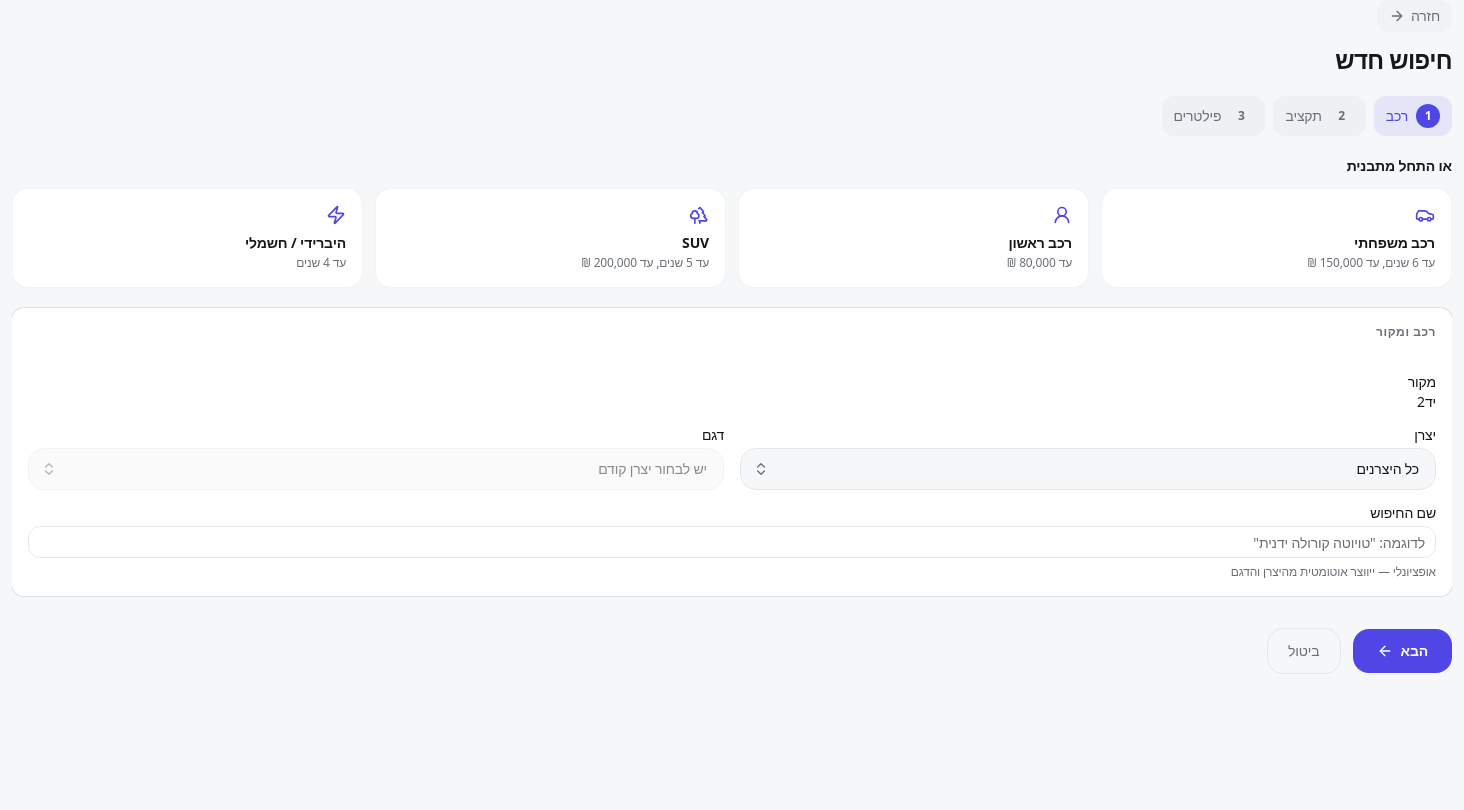
Test: NewSearchPage presets › hides presets after clicking one
Click the button "רכב ראשון עד 80,000 ₪": (1040, 242) [738,188,1089,288]
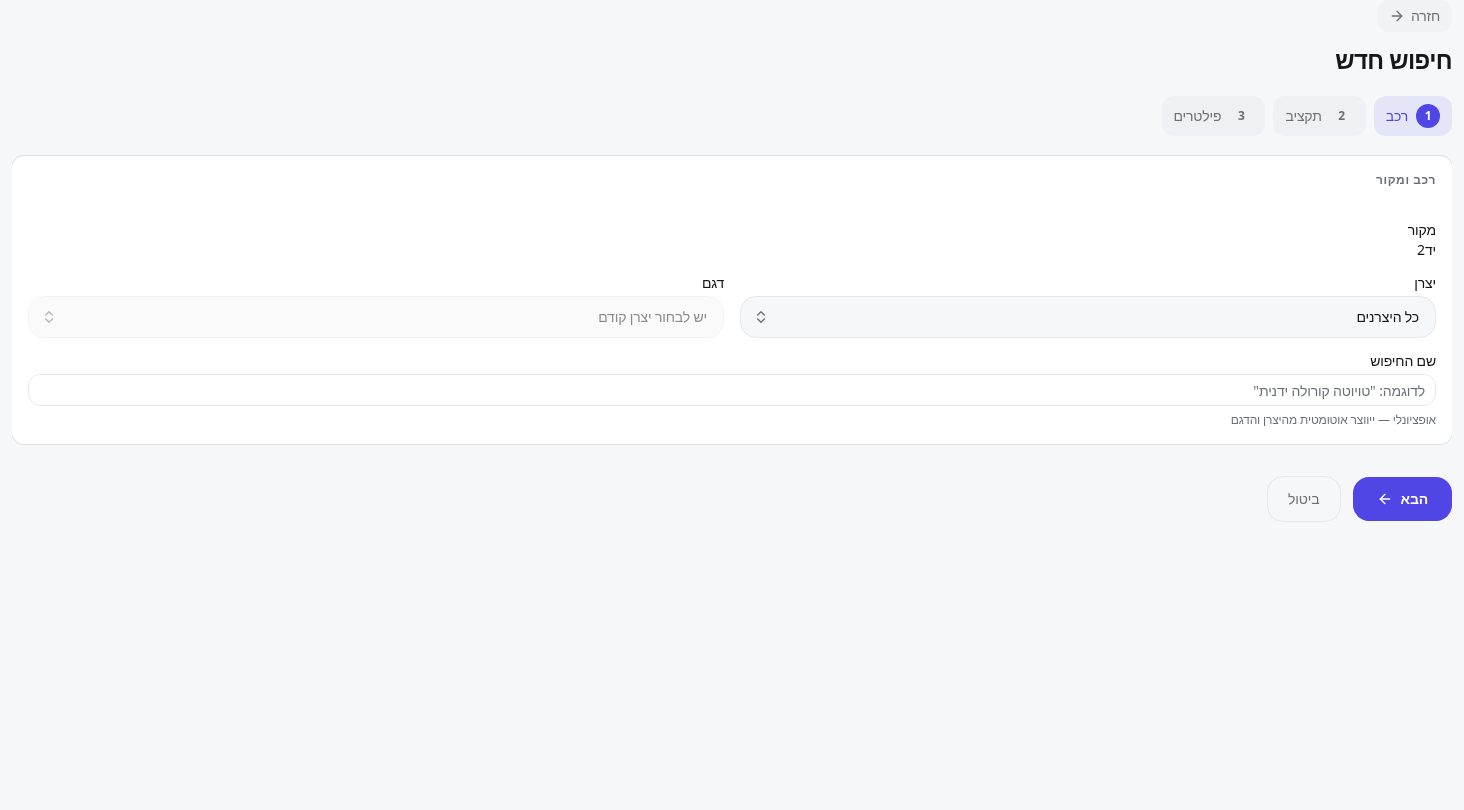
Expected: the heading "התחל מתבנית" is gone
